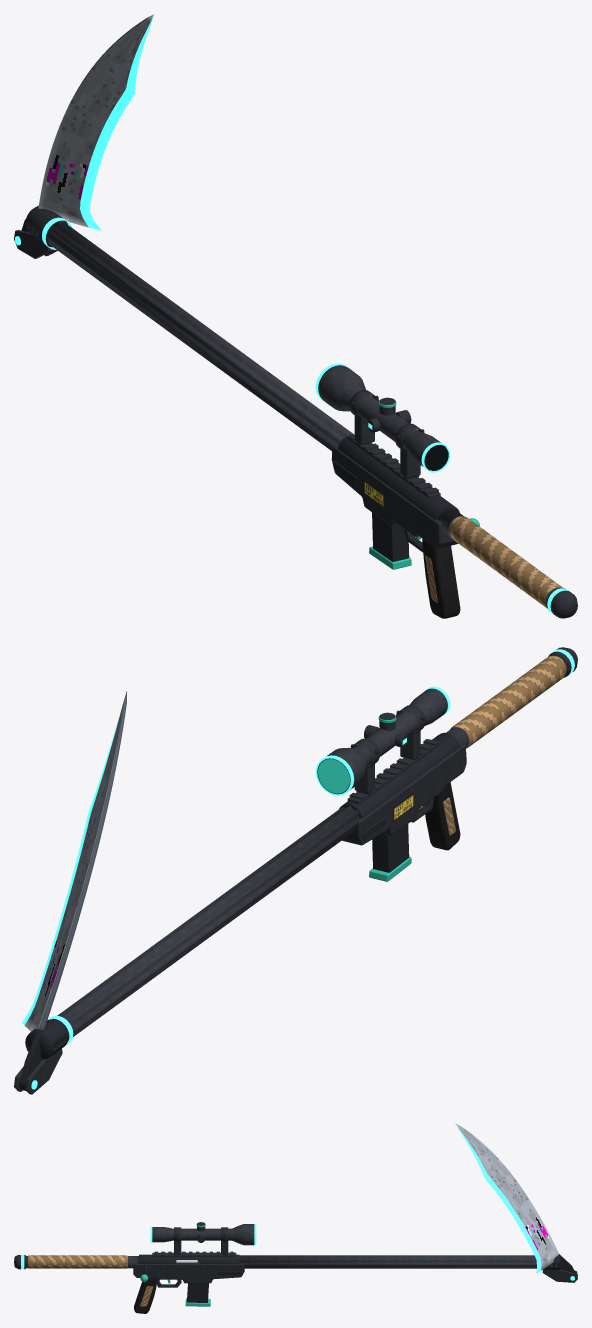
The model's file is w_scythe.glb.
3 renders of one model, top to bottom at view 1: azimuth 30°, elevation 25°; view 2: azimuth 150°, elevation 25°; view 3: azimuth 270°, elevation 25°, orthographic. The views are drawn at different scales.
Visible parts, largest first — view 1: scythe_body_wzA, blade_wzB, scythe_body_wzN; view 2: scythe_body_wzA, blade_wzB, scythe_body_wzN; view 3: scythe_body_wzA, blade_wzB, scythe_body_wzN.
Part boxes in pixels (x1=…): scythe_body_wzA: x1=14, y1=207, x2=577, y2=618; blade_wzB: x1=21, y1=14, x2=153, y2=231; scythe_body_wzN: x1=15, y1=217, x2=571, y2=614; scythe_body_wzA: x1=14, y1=647, x2=577, y2=1094; blade_wzB: x1=19, y1=691, x2=126, y2=1090; scythe_body_wzN: x1=31, y1=649, x2=574, y2=1089; scythe_body_wzA: x1=14, y1=1222, x2=577, y2=1313; blade_wzB: x1=455, y1=1123, x2=575, y2=1273; scythe_body_wzN: x1=21, y1=1224, x2=574, y2=1280.
Bounding box in the file's own units: 0.1031 × 0.6332 × 1.68.
15 materials, 6 textured.
